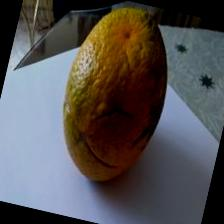Orange Rotten: (40, 0, 197, 204)
